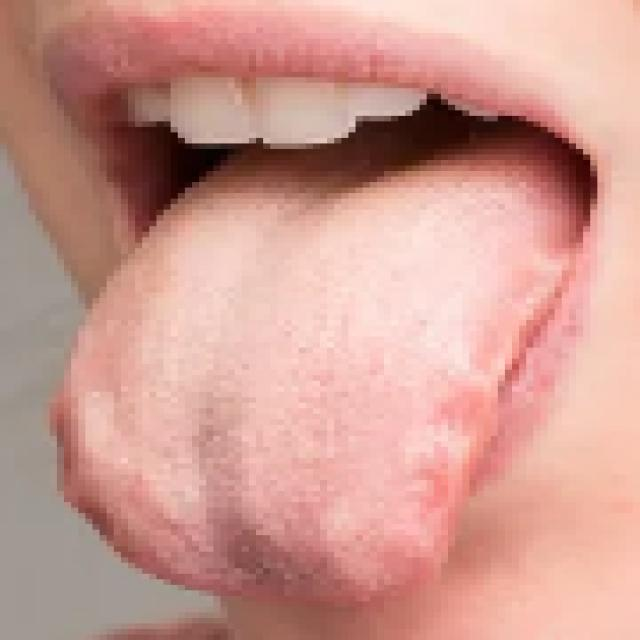No Cancer: (137, 95, 584, 347)
